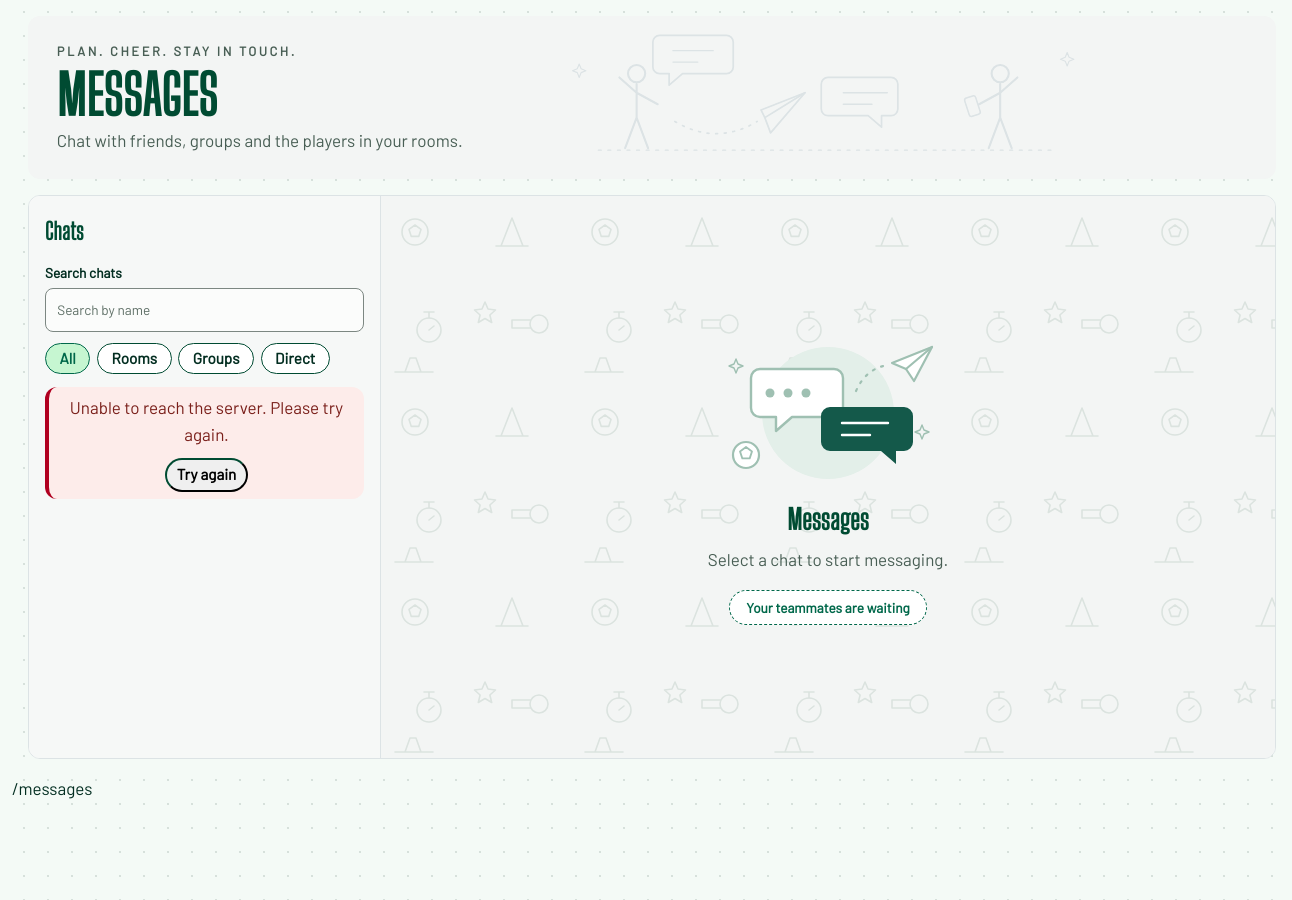
Test: Inbox › shows a failed load with a retry
Expected: the text "Unable to reach the server. Please try again." is shown, [62,394,351,447]
What coordinates should you click on to do the following:
click the button "Try again"
I would click on:
 (206, 475)
Its box is [165,458,248,492].
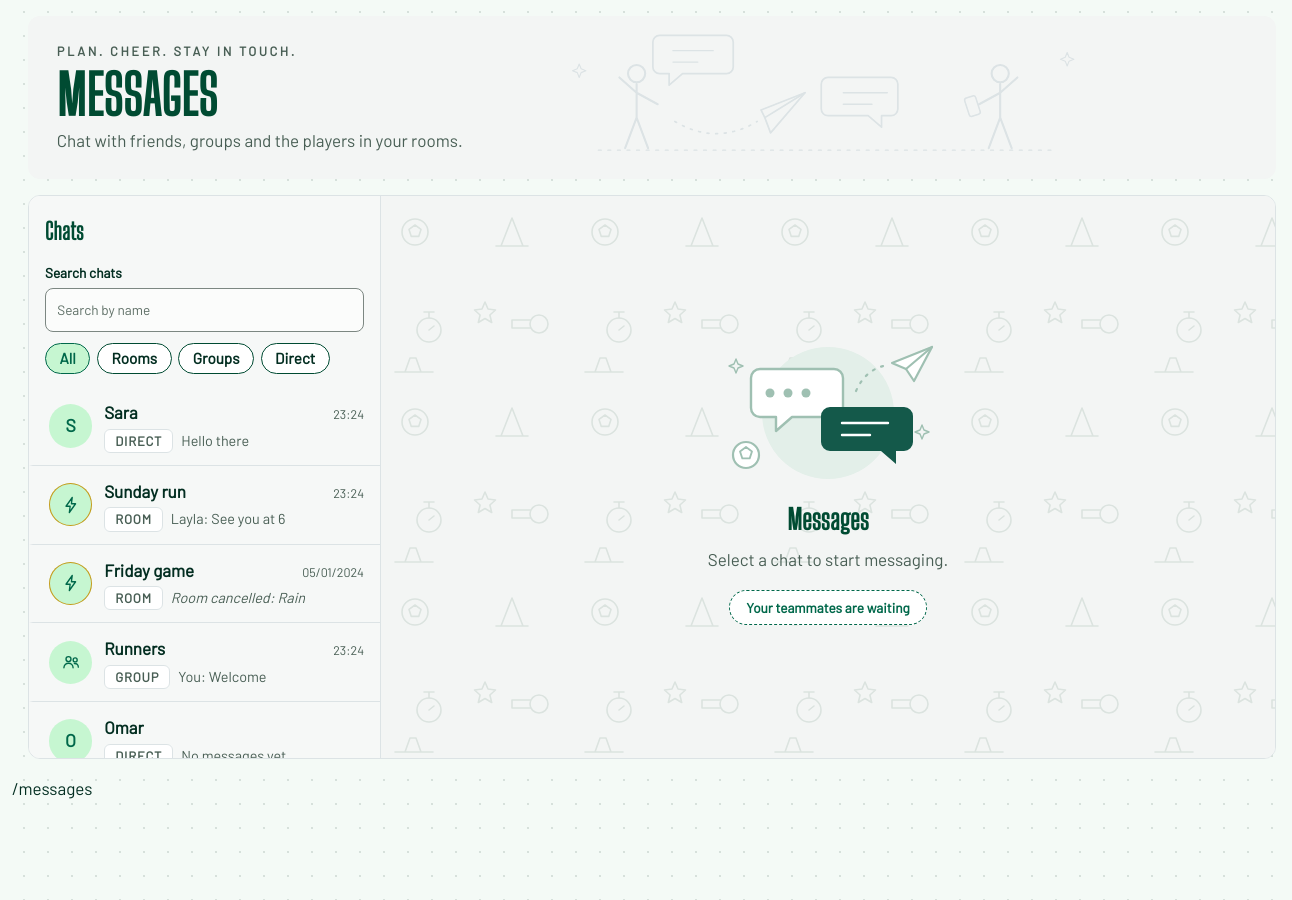
Now the text "Sara" is shown, box [104,399,138,426]
